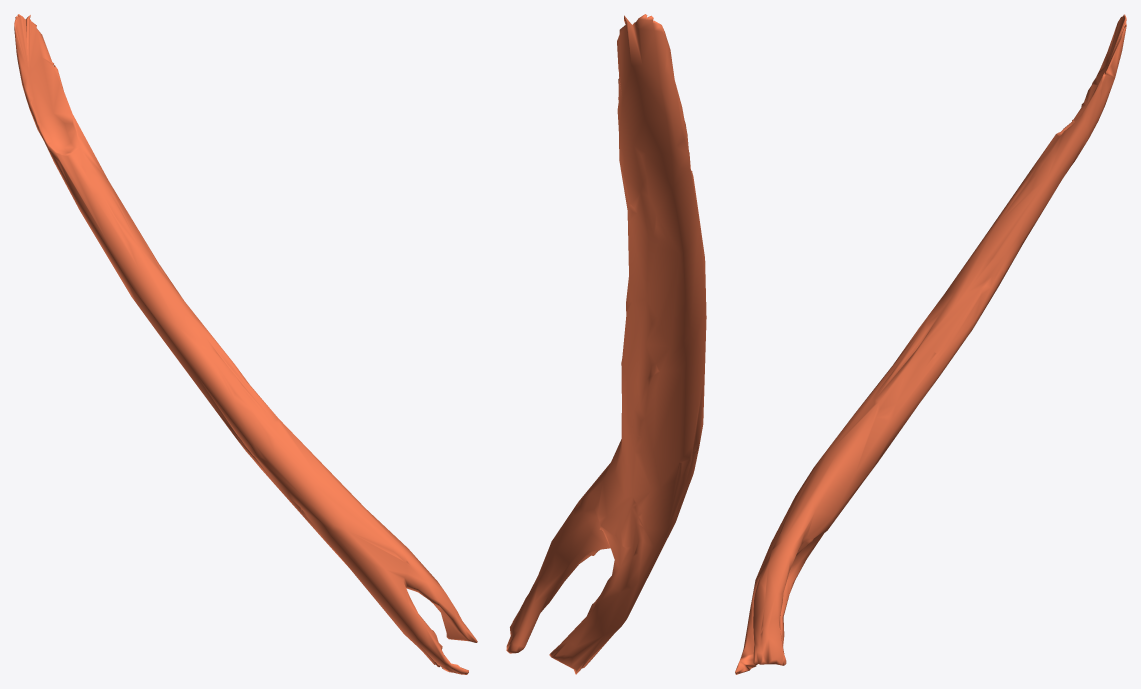
Rendered from Stylohyoid_muscle.r_Generated_Mesh_From_X3D.190.glb.
3 views of the same model, side by side, from view 1: azimuth 30°, elevation 25°; view 2: azimuth 150°, elevation 25°; view 3: azimuth 270°, elevation 25° (orthographic). The views are drawn at different scales.
Parts seen in each view (by area): view 1: Stylohyoid_muscle.r_Generated_Mesh_From_X3D.190; view 2: Stylohyoid_muscle.r_Generated_Mesh_From_X3D.190; view 3: Stylohyoid_muscle.r_Generated_Mesh_From_X3D.190.
Part boxes in pixels (x1,y1,x2,y2): Stylohyoid_muscle.r_Generated_Mesh_From_X3D.190: (14,14,477,674); Stylohyoid_muscle.r_Generated_Mesh_From_X3D.190: (506,14,706,674); Stylohyoid_muscle.r_Generated_Mesh_From_X3D.190: (735,14,1126,674).
Bounding box in the file's own units: 0.0316 × 0.0628 × 0.0408.
